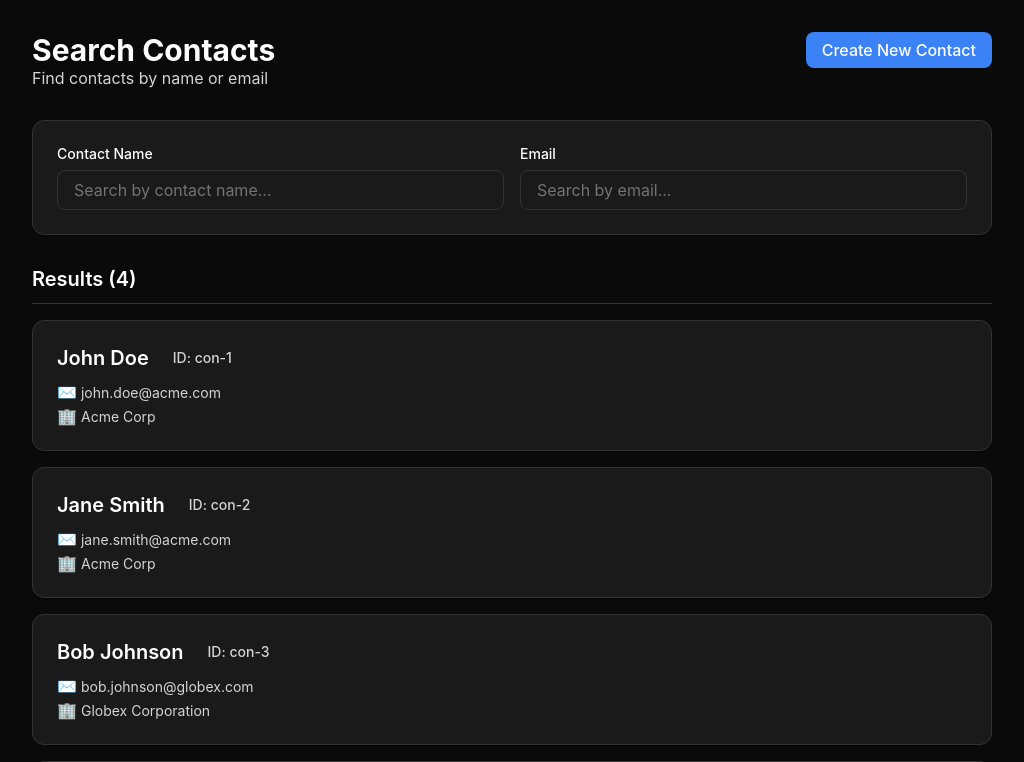
Test: SearchContacts › is case insensitive when filtering
Expected: the heading "Search Contacts" is shown, left=32, top=32, right=275, bottom=68
Type "ALICE" into the field with placeholder "Search by contact name...".
click(280, 190); type("ALICE")  # box left=57, top=170, right=504, bottom=210
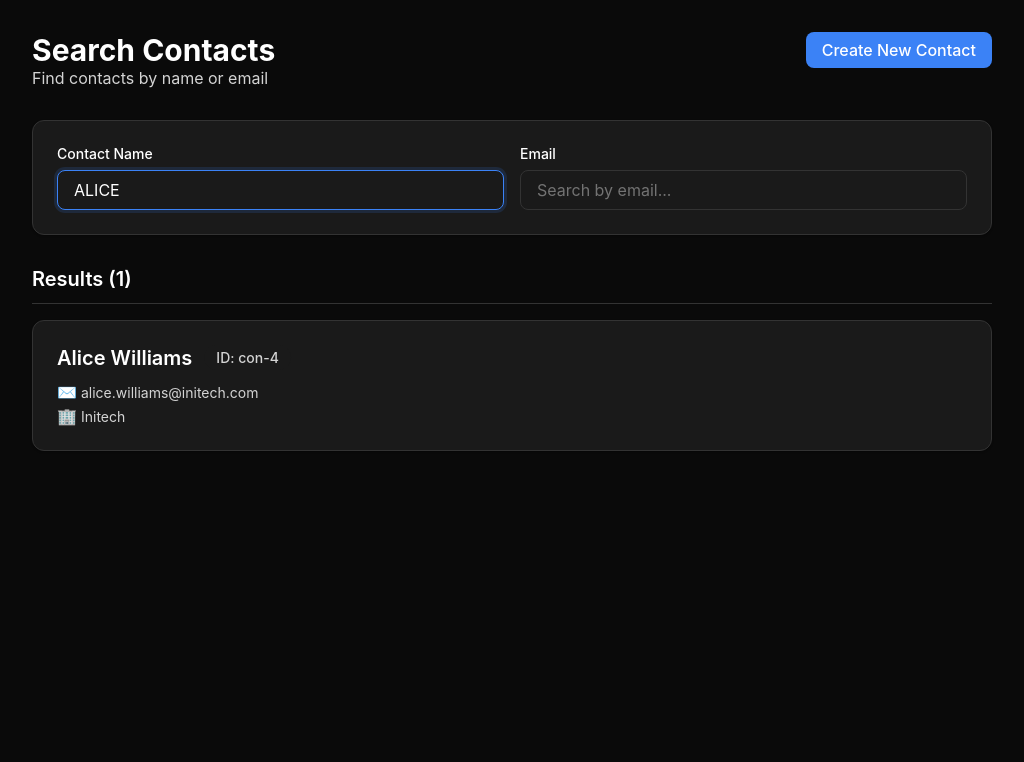
Expected: the heading "Alice Williams" is shown, left=57, top=346, right=192, bottom=370
Expected: the heading "Results (1)" is shown, left=32, top=267, right=132, bottom=291
